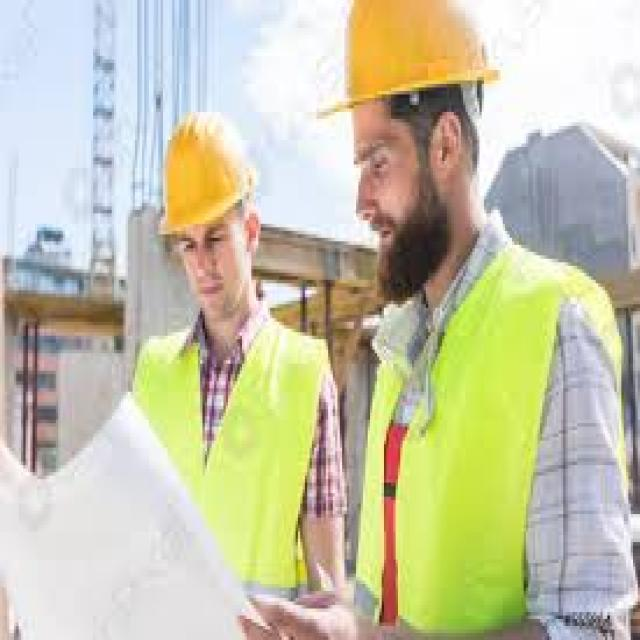Hard Hat: (308, 0, 514, 125), (155, 112, 258, 240)
Reflective Vest: (352, 235, 631, 640), (127, 315, 333, 640)
